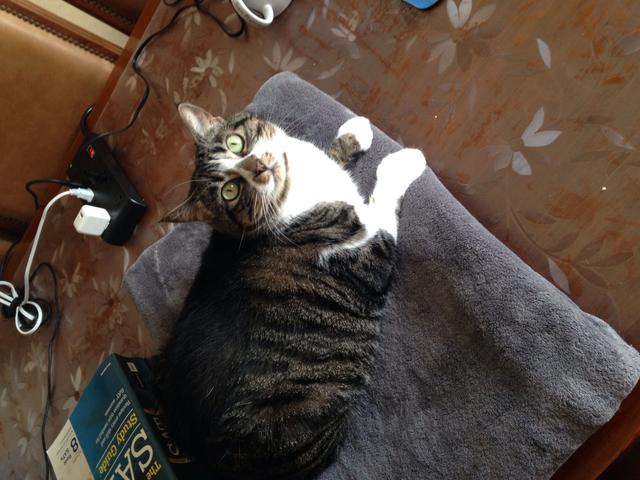playdoh: (153, 102, 427, 478)
